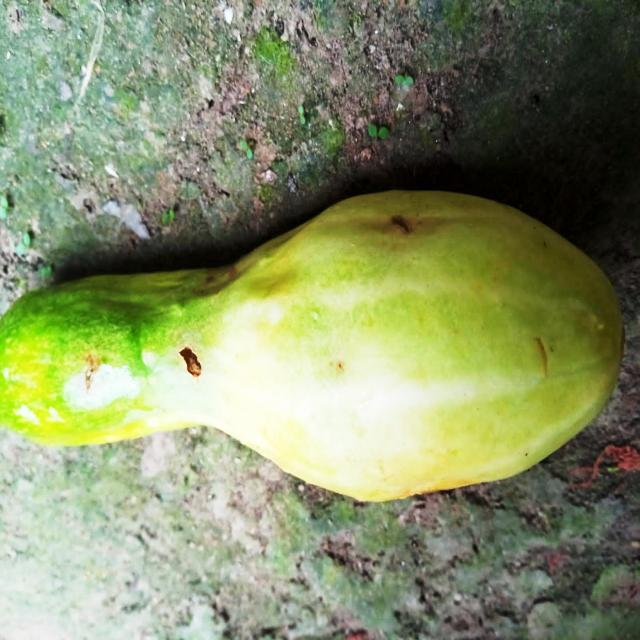Belly-Rot: (74, 344, 113, 398), (177, 337, 210, 387), (386, 206, 421, 243)
